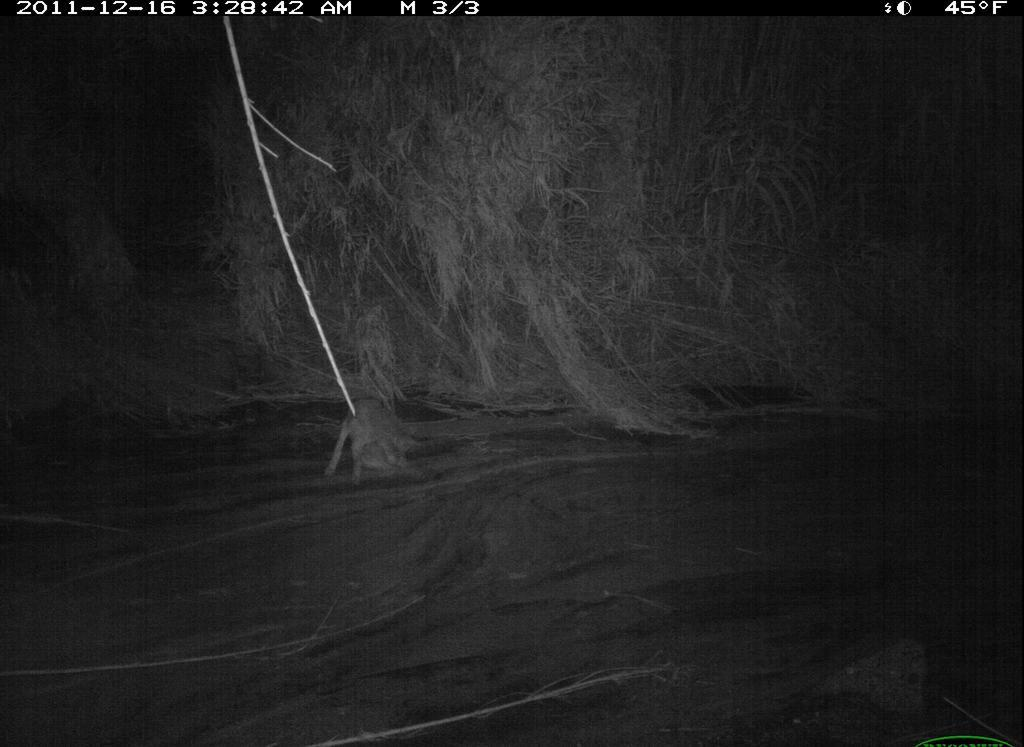coyote: (312, 370, 432, 504)
